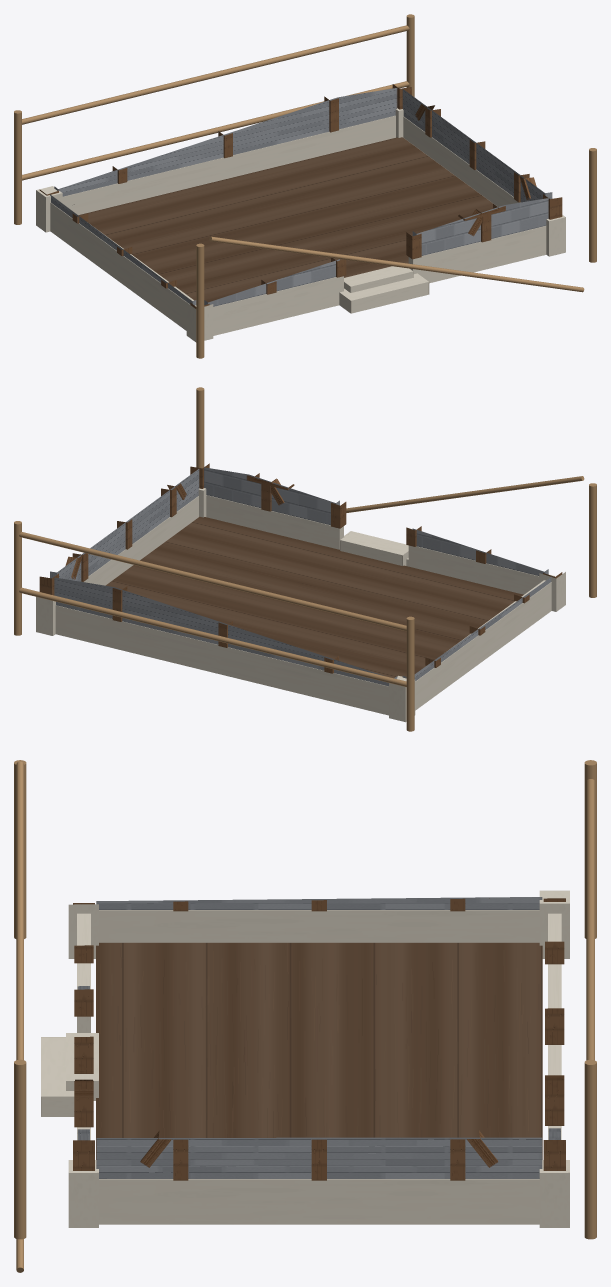
Rendered from Building7Stage2.glb.
The picture shows the model from 3 angles, top to bottom: view 1: azimuth 30°, elevation 25°; view 2: azimuth 150°, elevation 25°; view 3: azimuth 270°, elevation 25°; orthographic projection. The views are drawn at different scales.
Visible parts, largest first — view 1: building7_stage2; view 2: building7_stage2; view 3: building7_stage2.
Boxes of the visible parts, box(x1,y1,x2,y2) form: building7_stage2: box(14, 14, 596, 358); building7_stage2: box(14, 387, 596, 731); building7_stage2: box(14, 760, 596, 1272).
Bounding box in the file's own units: 11.98 × 4.18 × 9.68.
2 materials, 1 textured.
